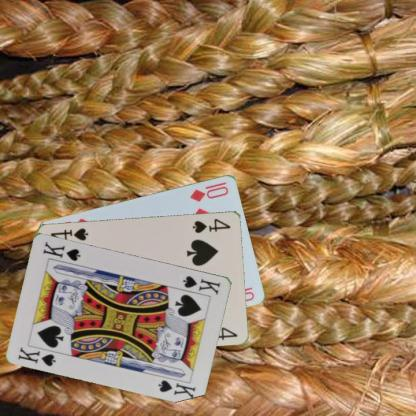10d: (187, 178, 230, 203)
4s: (190, 216, 232, 234)
Ks: (15, 344, 58, 367), (180, 273, 222, 296)
